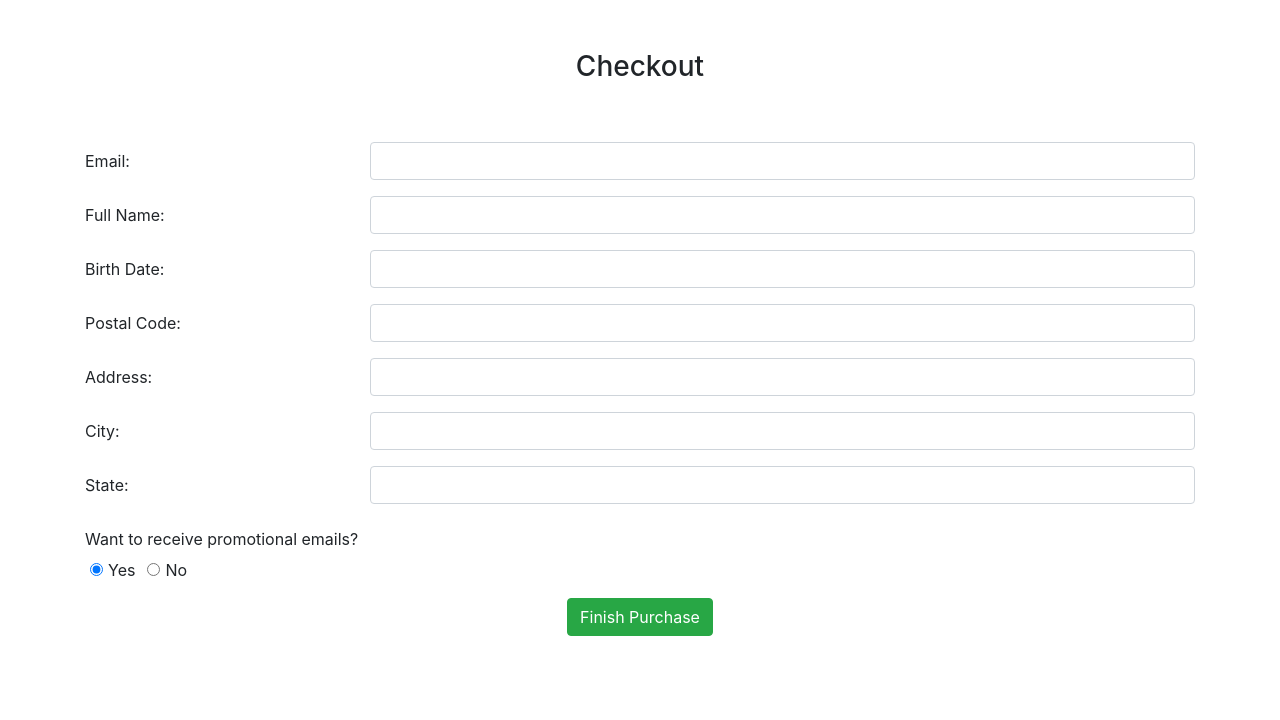
Test: Checkout component tests › should finish the purchase successfuly
This screenshot has width=1280, height=720.
Type "lorem@ipsum.com" into the field with test id "input-email". click: (782, 161)
box: [370, 142, 1195, 180]
Type "lorem ipsum name" into the field with test id "input-full-name". click: (782, 215)
box: [370, 196, 1195, 234]
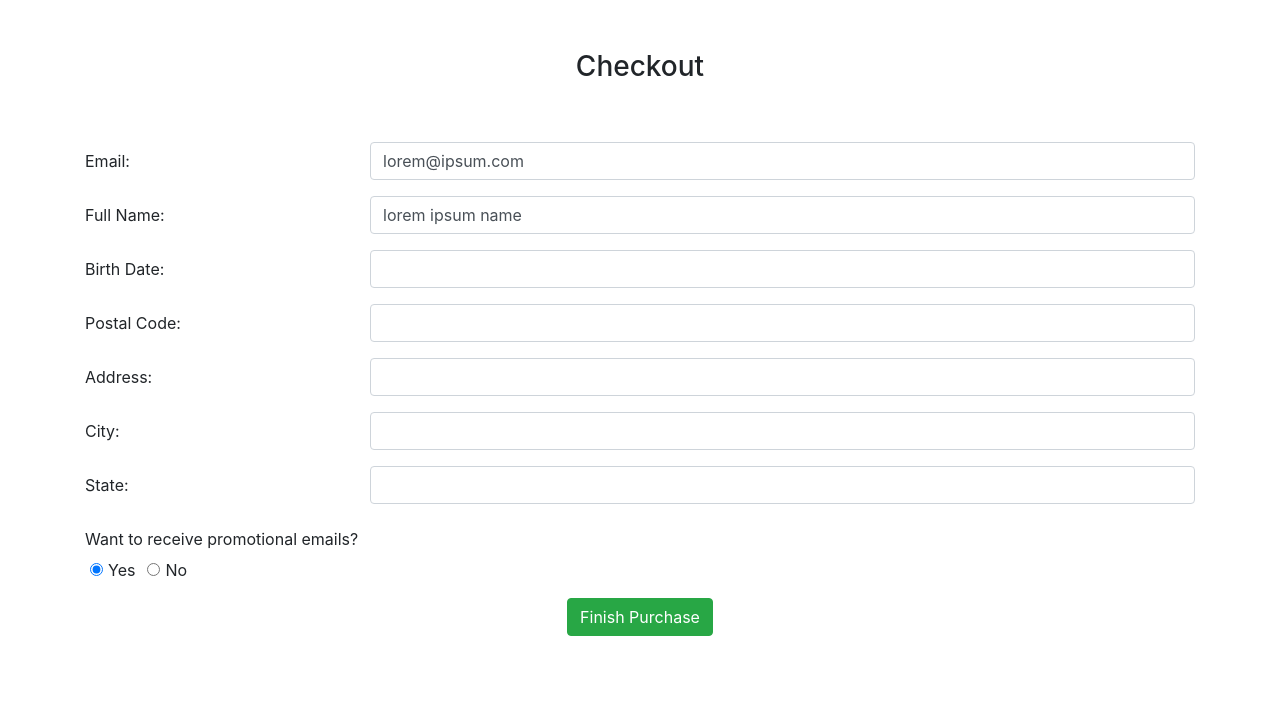
Type "123456" into the field with test id "input-postal-code". click: (782, 323)
box: [370, 304, 1195, 342]
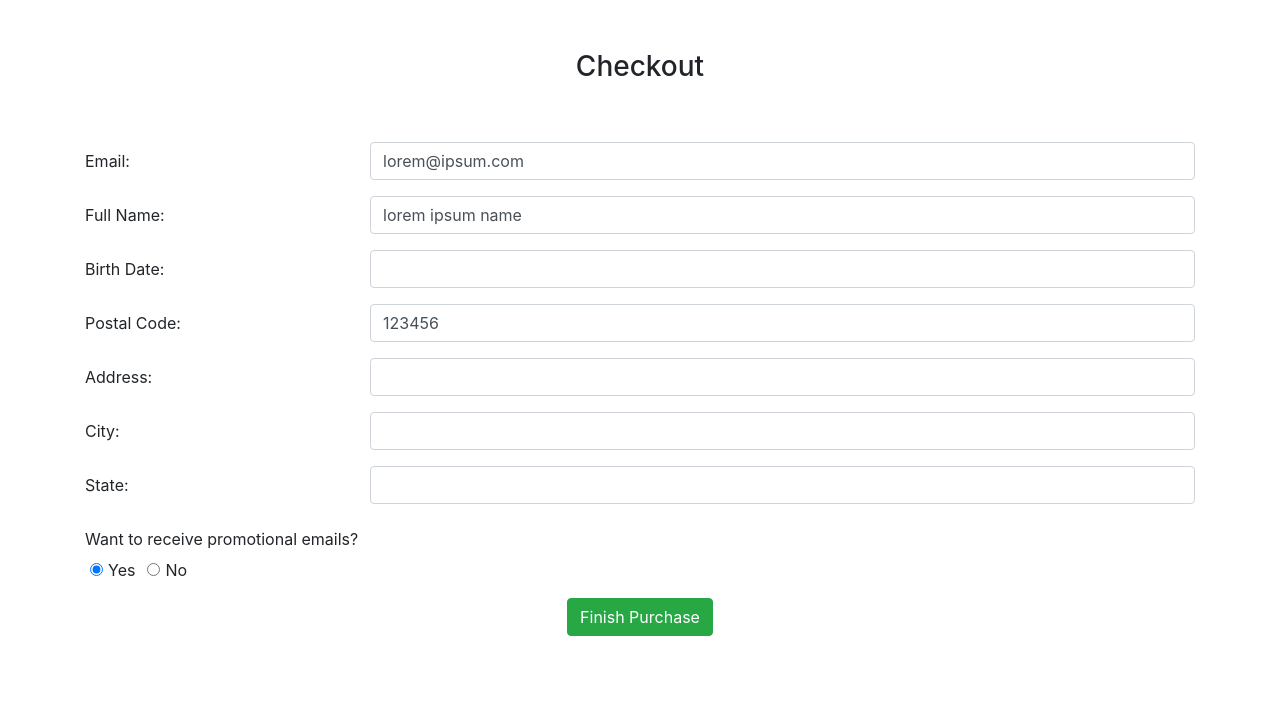
Type "lorem ipsum address" into the field with test id "input-address". click: (782, 377)
box: [370, 358, 1195, 396]
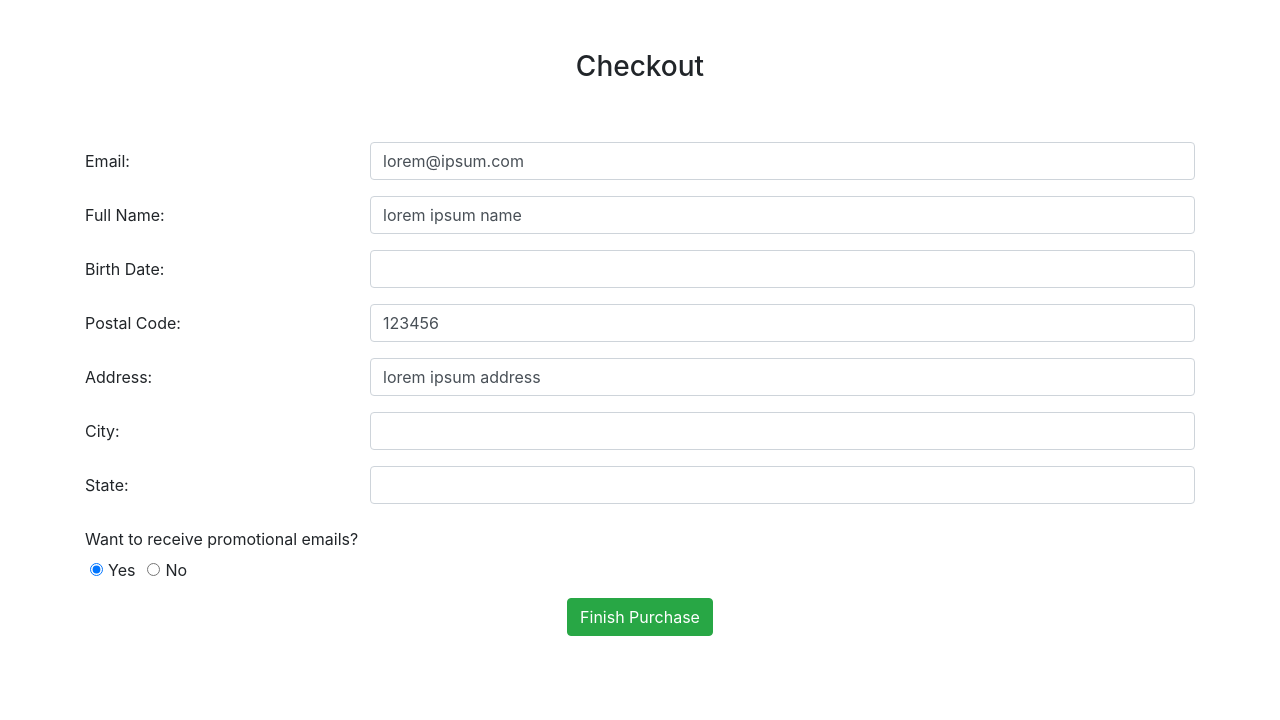
Type "lorem ipsum city" into the field with test id "input-city". click: (782, 431)
box: [370, 412, 1195, 450]
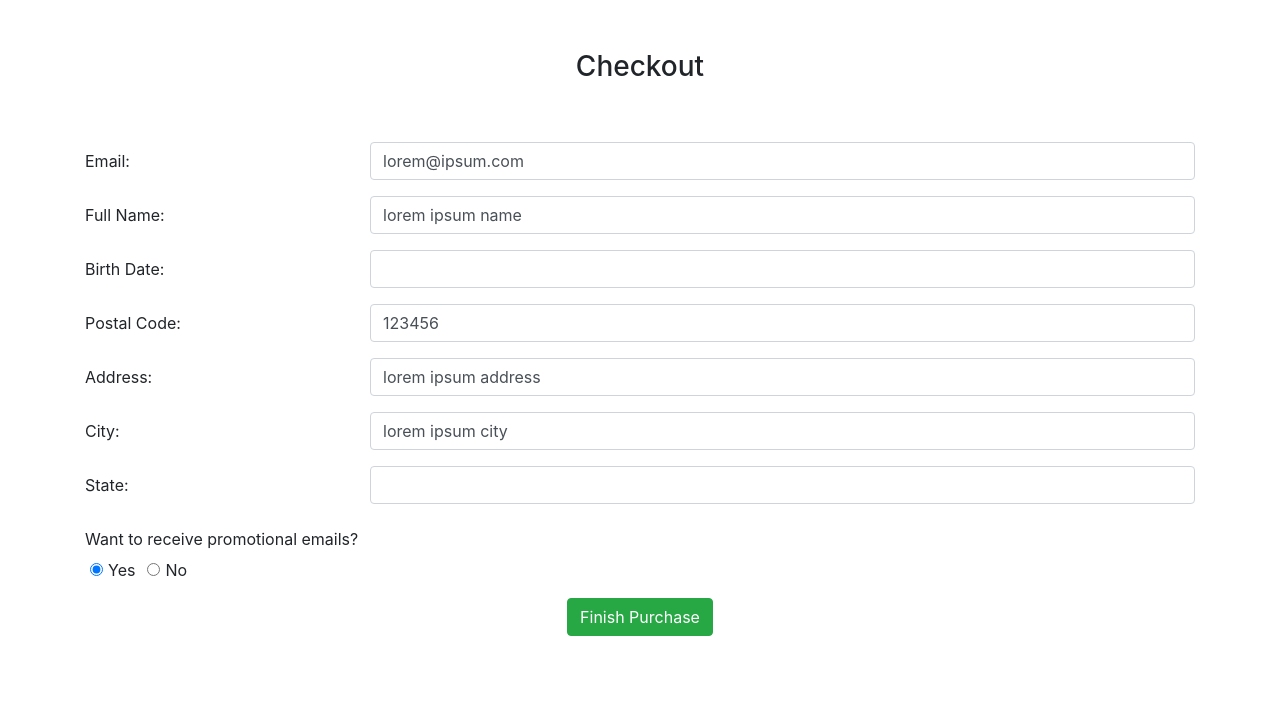
Type "lorem ipsum state" into the field with test id "input-state". click: (782, 485)
box: [370, 466, 1195, 504]
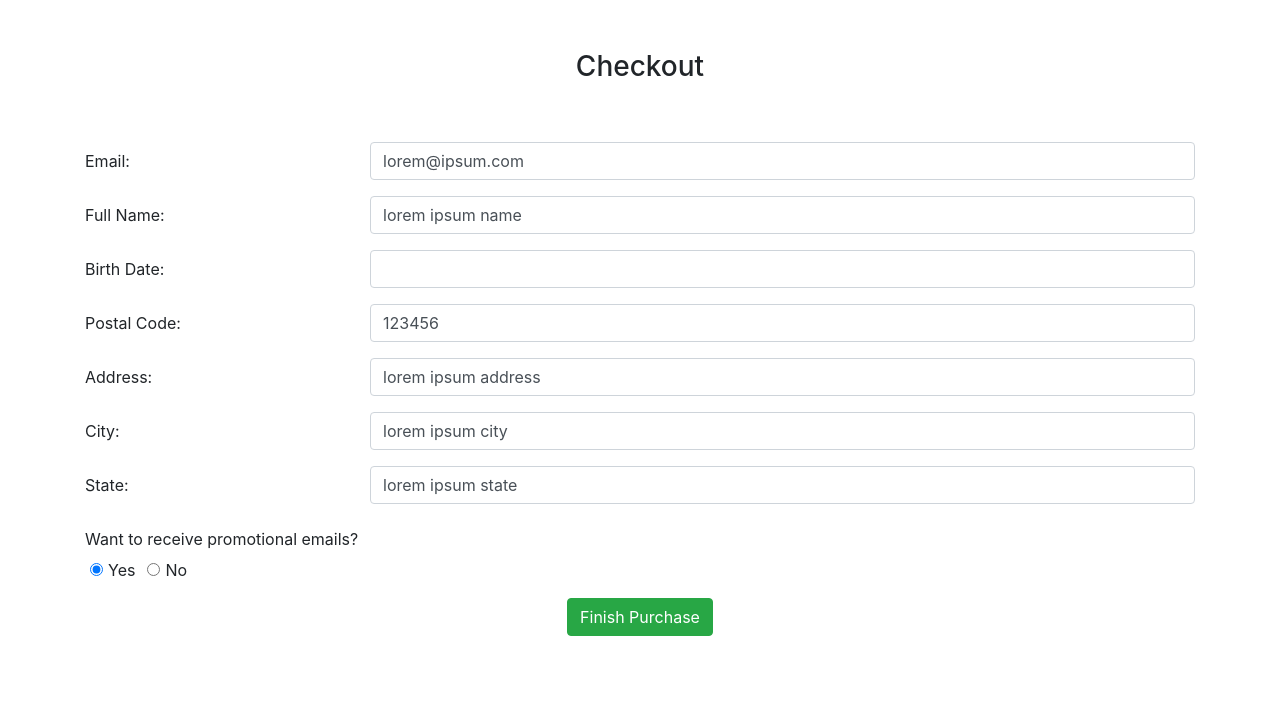
Click the button with test id "finish-purchase". click: (640, 617)
box: [567, 598, 713, 636]
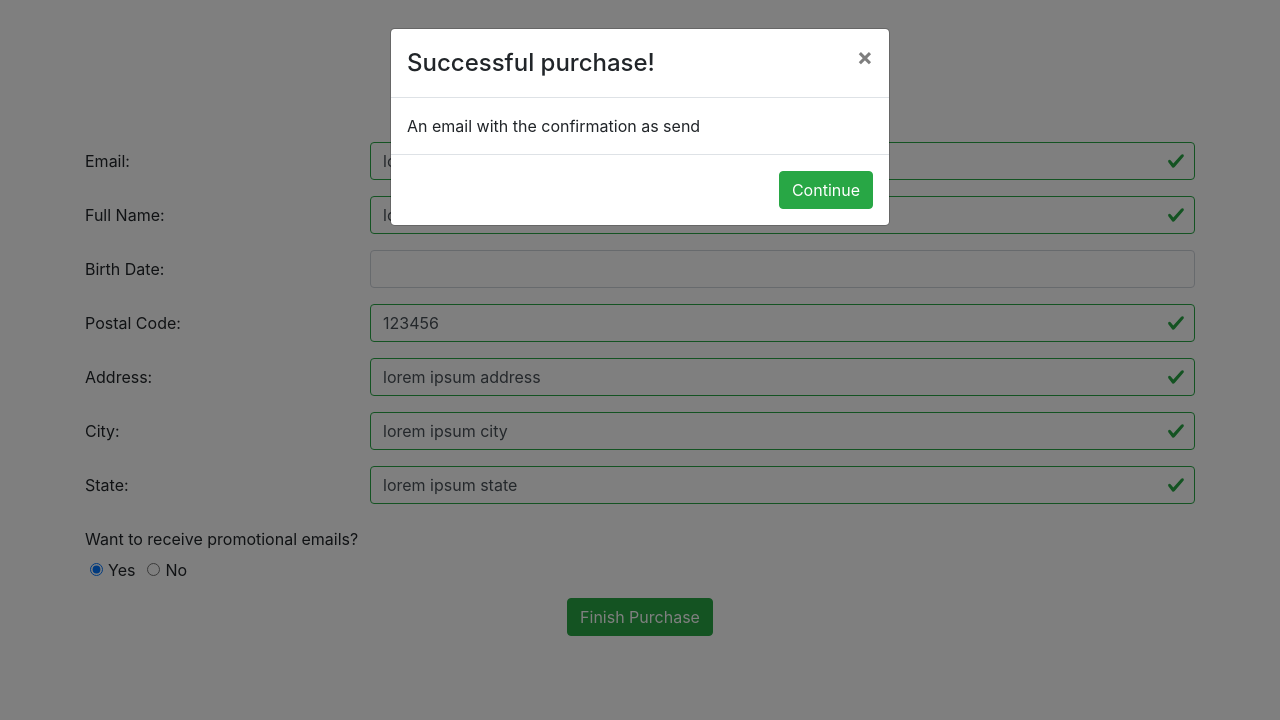
Check: the element with test id "susscessful-modal-checkout" shows "Successful purchase!", box [407, 48, 655, 77]
